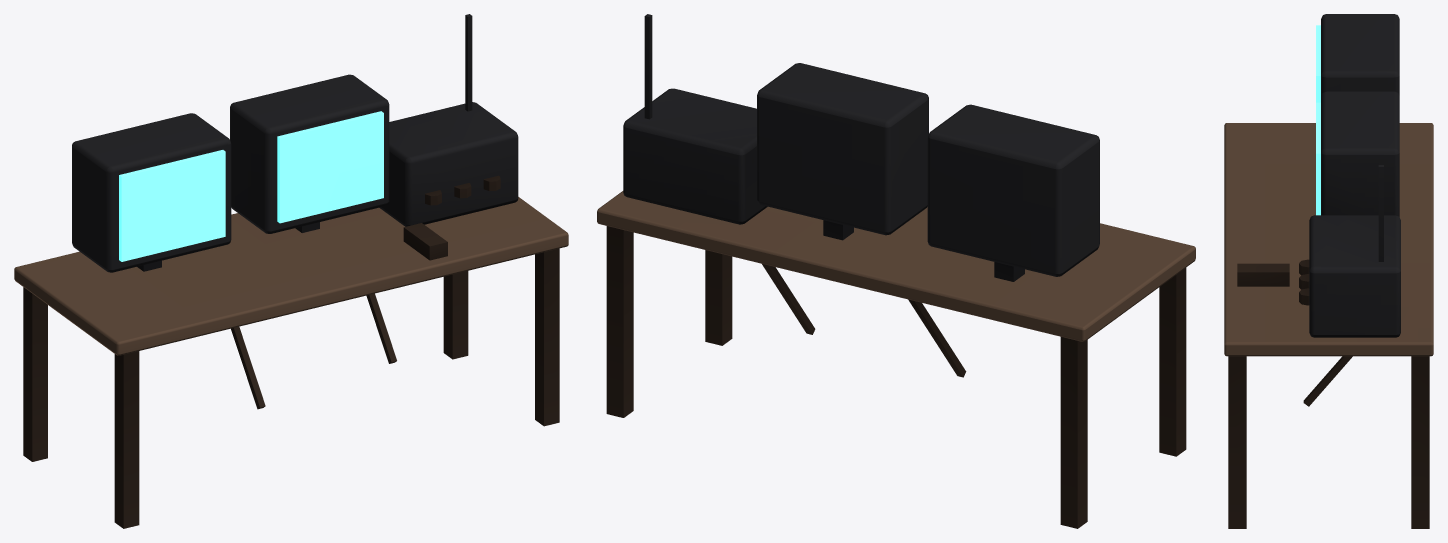
The model's file is tech_desk.glb.
The picture shows the model from 3 angles, left to right: view 1: azimuth 30°, elevation 25°; view 2: azimuth 150°, elevation 25°; view 3: azimuth 270°, elevation 25°; orthographic projection. The views are drawn at different scales.
Parts seen in each view (by area): view 1: TechDesk; view 2: TechDesk; view 3: TechDesk.
Part boxes in pixels (left/top/right/bottom): TechDesk: left=14, top=14, right=568, bottom=528; TechDesk: left=597, top=14, right=1195, bottom=528; TechDesk: left=1224, top=14, right=1433, bottom=528.
Size of the model in its own units: 2 by 1.5 by 0.8.
